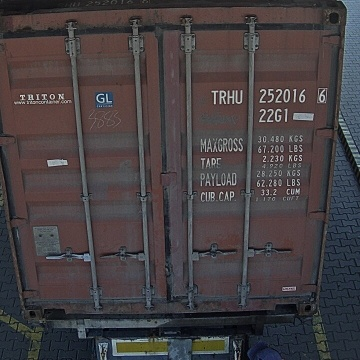serial_id: (211, 88, 327, 104)
